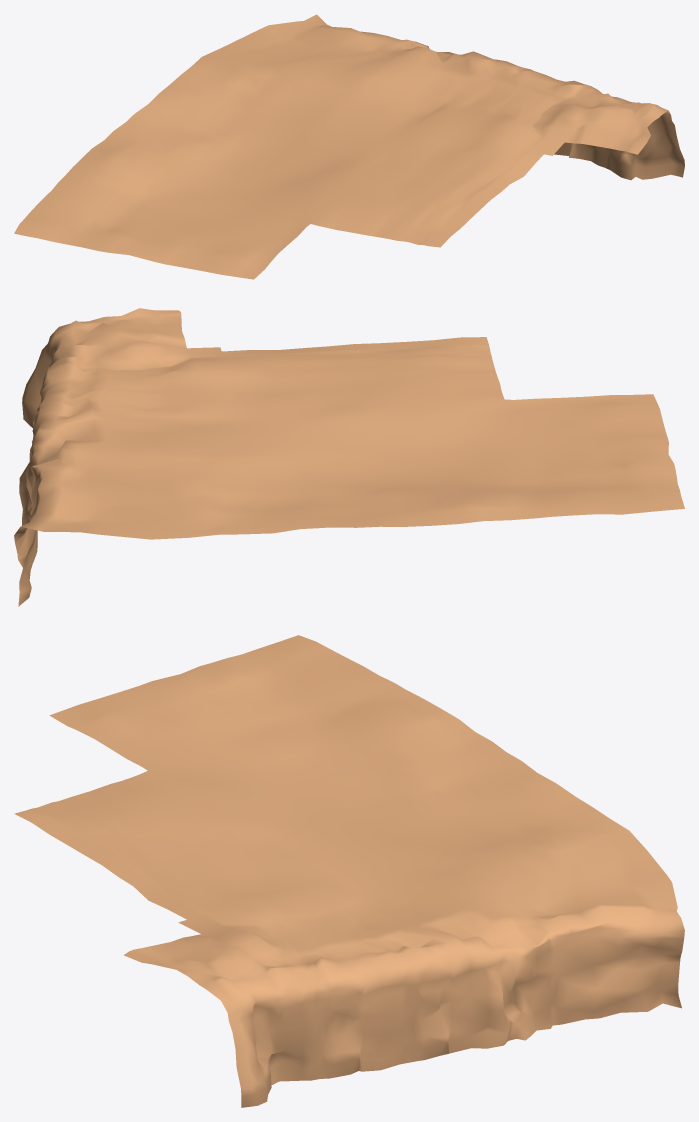
Rendered from relief_1.low.fbx.
3 renders of one model, top to bottom at view 1: azimuth 30°, elevation 25°; view 2: azimuth 150°, elevation 25°; view 3: azimuth 270°, elevation 25°, orthographic. The views are drawn at different scales.
Parts seen in each view (by area): view 1: relief.1.low; view 2: relief.1.low; view 3: relief.1.low.
Part boxes in pixels (x1,y1,x2,y2): relief.1.low: (14,14,684,279); relief.1.low: (14,308,684,606); relief.1.low: (14,635,684,1107).
Size of the model in its own units: 3197 by 458 by 2420.
